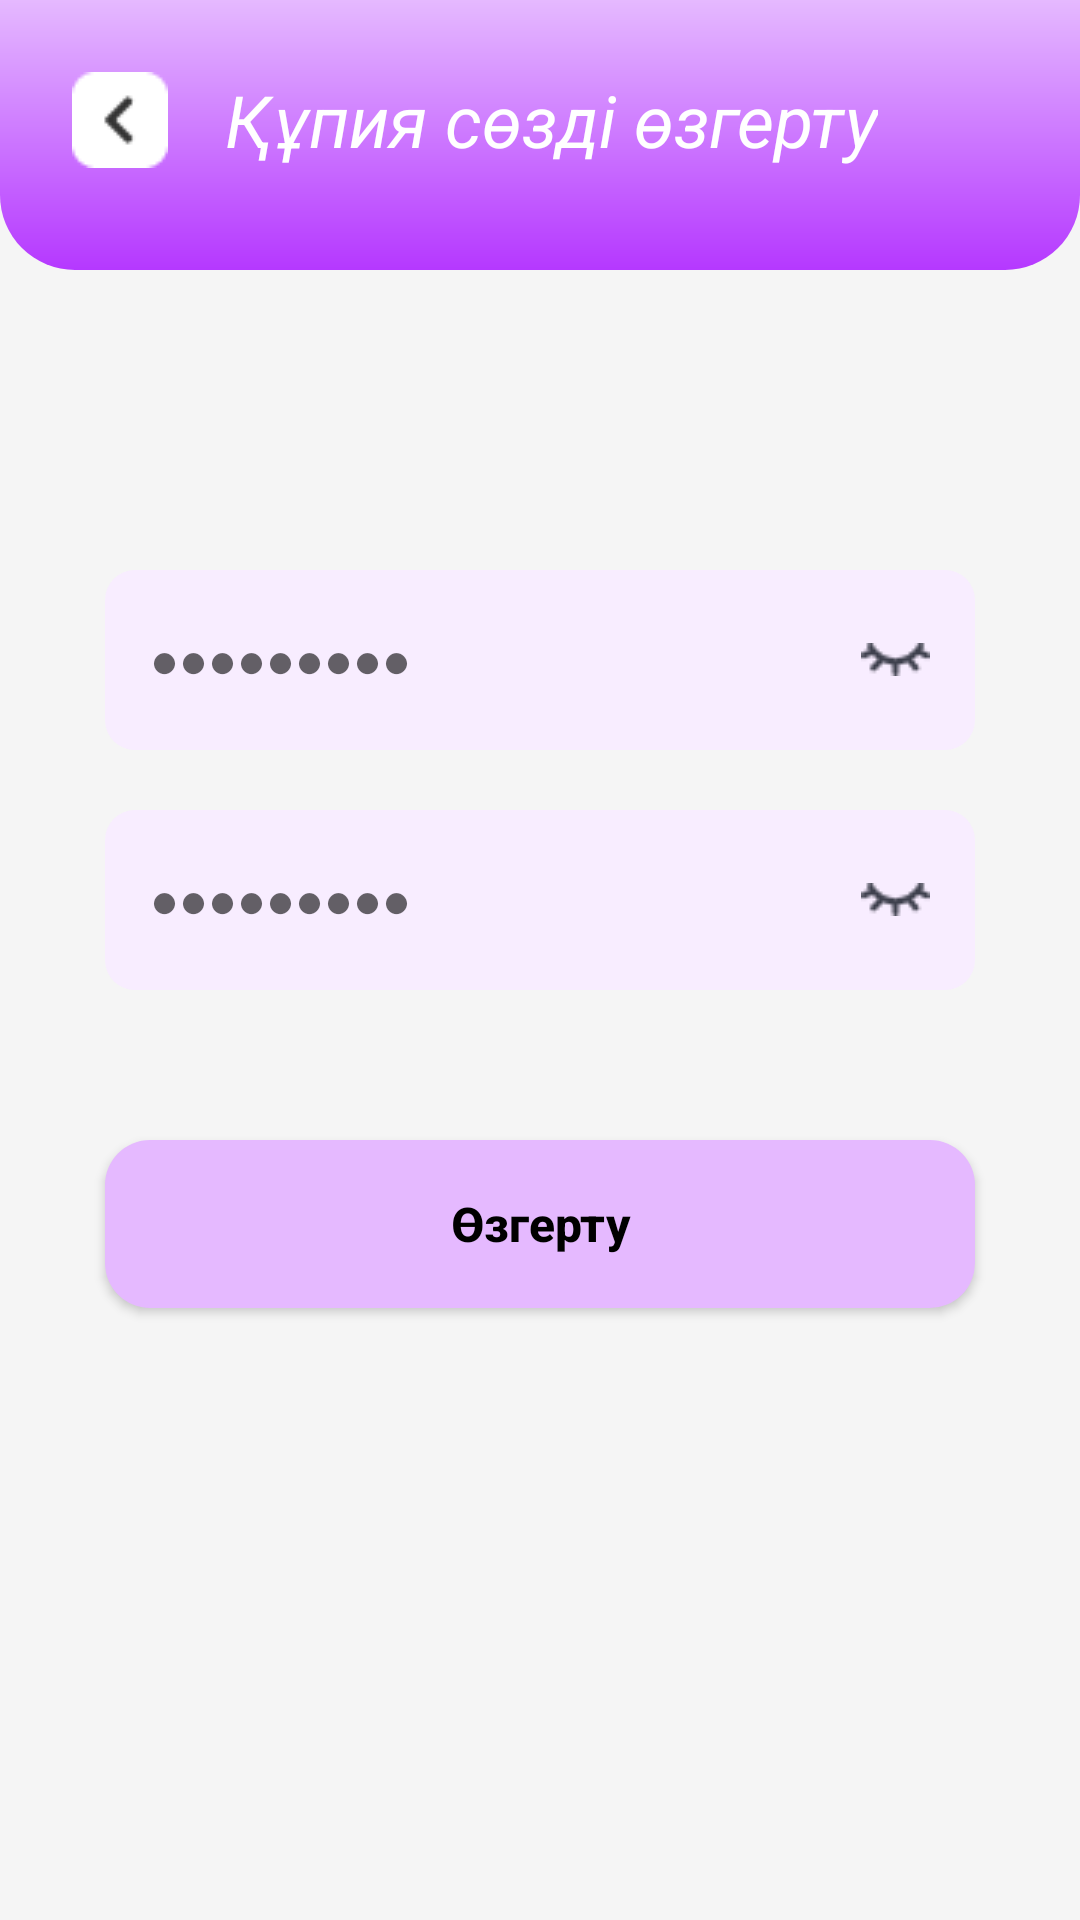

Where to tap for icons on this 1080*1920 app screen, as point (x, y):
back: point (120, 120)
